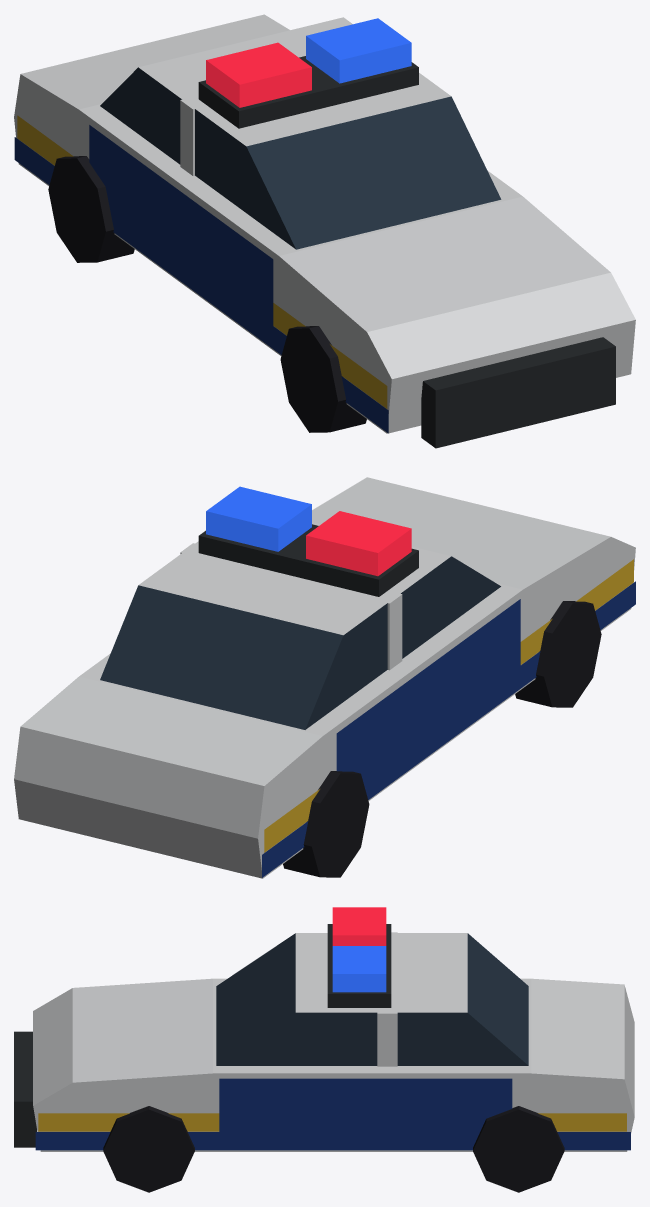
The model's file is prop_police_car.meshopt.glb.
3 renders of one model, top to bottom at view 1: azimuth 30°, elevation 25°; view 2: azimuth 150°, elevation 25°; view 3: azimuth 270°, elevation 25°, orthographic. The views are drawn at different scales.
Parts seen in each view (by area): view 1: police_car, beacon_blue, beacon_red; view 2: police_car, beacon_red, beacon_blue; view 3: police_car, beacon_blue, beacon_red.
Part boxes in pixels (x1,y1,x2,y2): police_car: (14,14,635,448); beacon_blue: (306,18,411,83); beacon_red: (206,42,311,107); police_car: (14,477,635,878); beacon_red: (306,511,411,576); beacon_blue: (206,486,311,551); police_car: (14,924,634,1192); beacon_blue: (332,946,386,992); beacon_red: (332,907,386,945).
Size of the model in its own units: 1.9 by 1.74 by 4.88.
